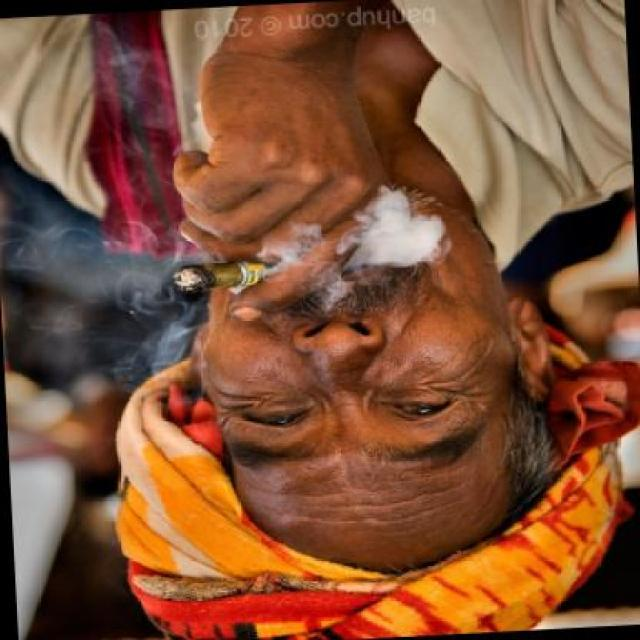smoke: (163, 0, 383, 293)
